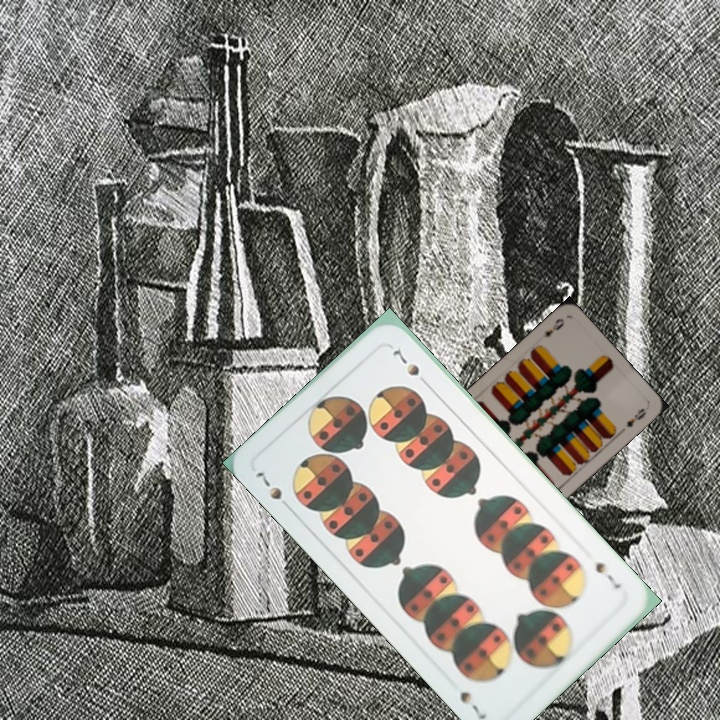E9: (538, 314, 567, 340)
S7: (250, 467, 295, 513), (591, 558, 623, 592)
